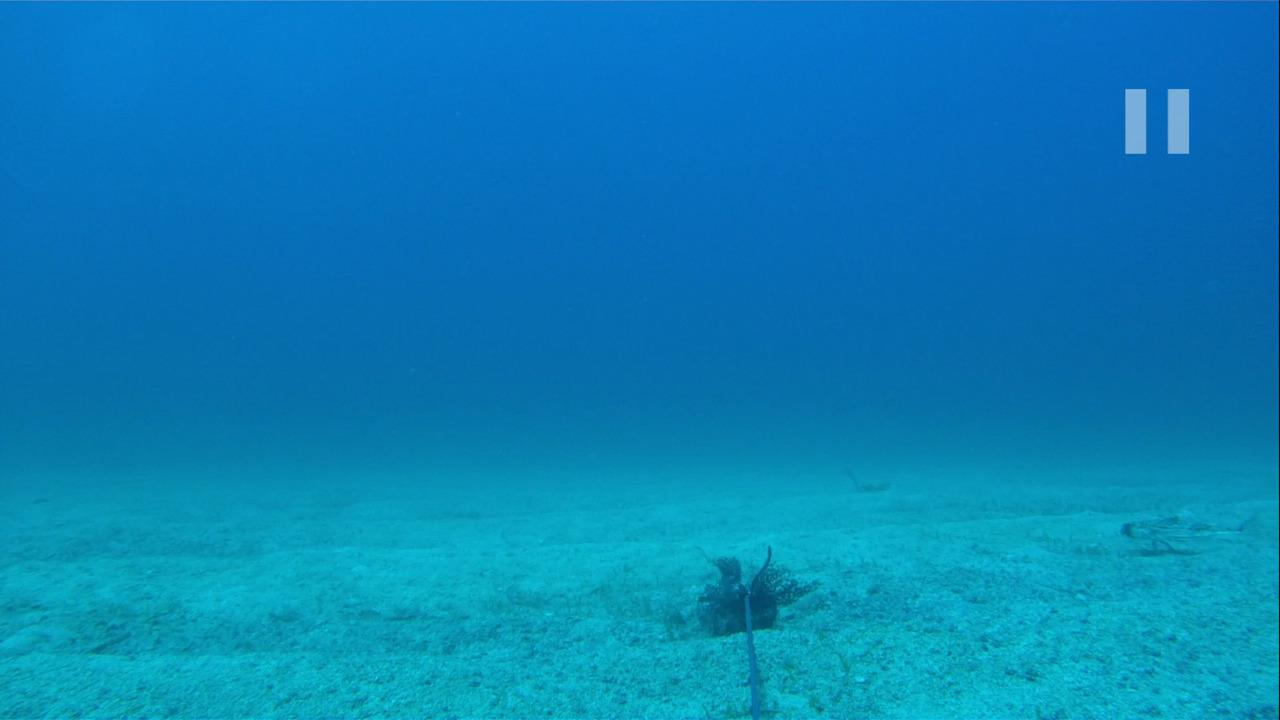dactylopterus: (1116, 499, 1265, 556)
